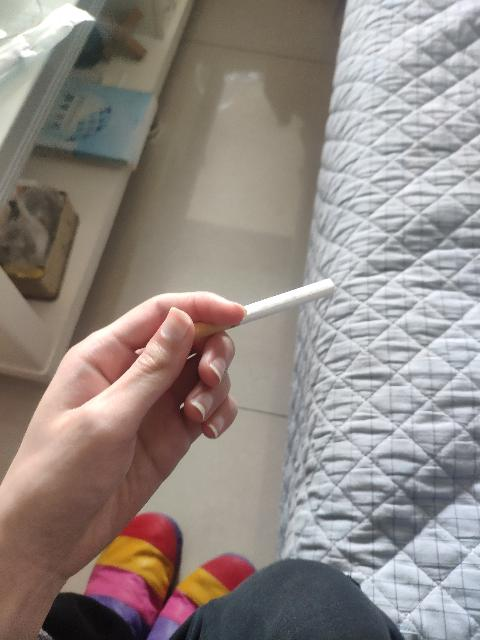Cigarette: (185, 278, 337, 342)
